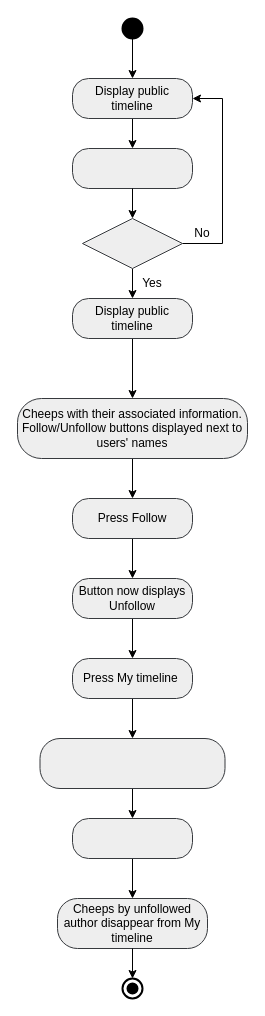
Image size: 265x1016. Some labels were removed from this diagram. Each missing label, with the box of its shape:
Displays cheeps written by the logged in user and by users this user follows: (39, 738, 225, 788)
Login: (72, 148, 192, 188)
Press Unfollow: (72, 818, 192, 858)
Succesful?: (82, 218, 182, 268)
